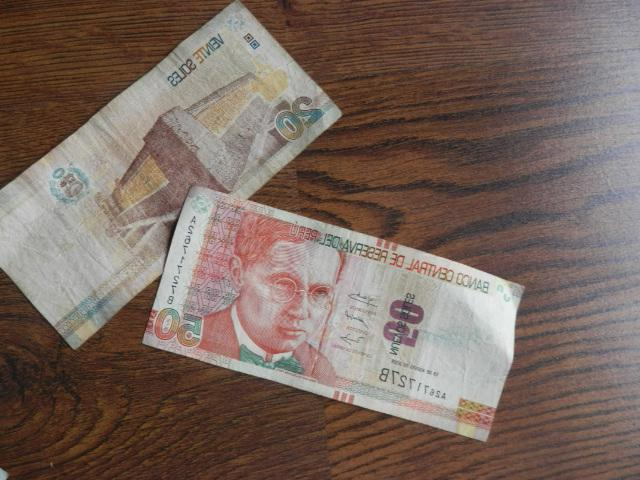B20: (1, 3, 342, 186)
B50: (143, 187, 523, 442)
